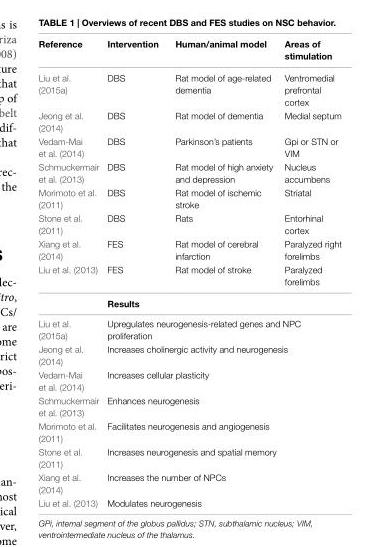table: (37, 37, 340, 507)
table column: (166, 37, 278, 507), (37, 37, 102, 507), (102, 37, 166, 507), (278, 37, 340, 507)
table column header: (37, 37, 340, 66)
table row: (37, 66, 340, 108), (37, 37, 340, 66), (37, 262, 340, 291), (37, 312, 340, 341), (37, 133, 340, 159), (37, 159, 340, 185), (37, 210, 340, 236), (37, 236, 340, 262), (37, 341, 340, 367), (37, 367, 340, 393), (37, 418, 340, 444), (37, 469, 340, 495), (37, 108, 340, 133), (37, 185, 340, 210), (37, 393, 340, 418), (37, 444, 340, 469), (37, 291, 340, 312), (37, 495, 340, 507)
table spanning cell: (102, 312, 340, 341), (102, 341, 340, 367), (102, 367, 340, 393), (102, 418, 340, 444), (102, 469, 340, 495), (102, 393, 340, 418), (102, 444, 340, 469), (102, 291, 340, 312), (37, 262, 102, 312), (102, 495, 340, 507)
